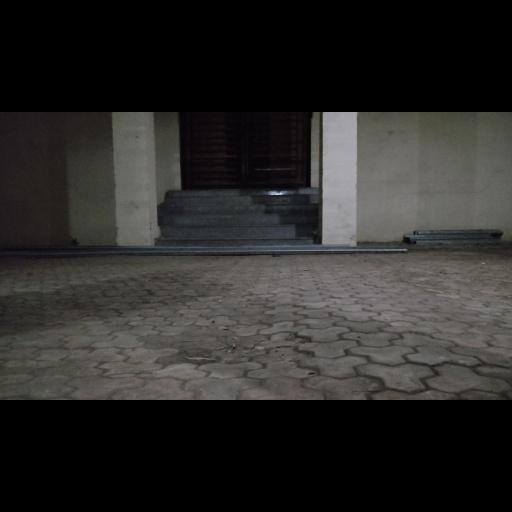stairs: (156, 188, 318, 246)
